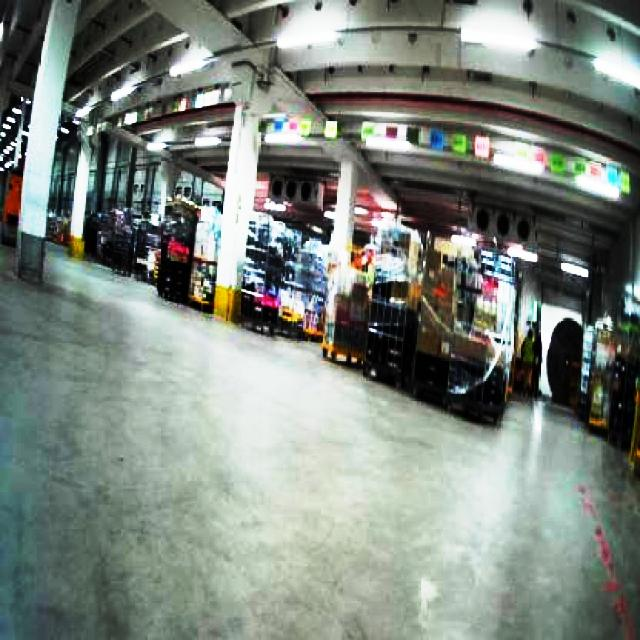ground: (0, 231, 638, 638)
pallet: (92, 194, 520, 426), (318, 223, 518, 426), (568, 320, 638, 538), (238, 211, 325, 340), (318, 242, 371, 368), (442, 351, 506, 425), (155, 195, 198, 303), (363, 295, 412, 388), (628, 366, 638, 483)
